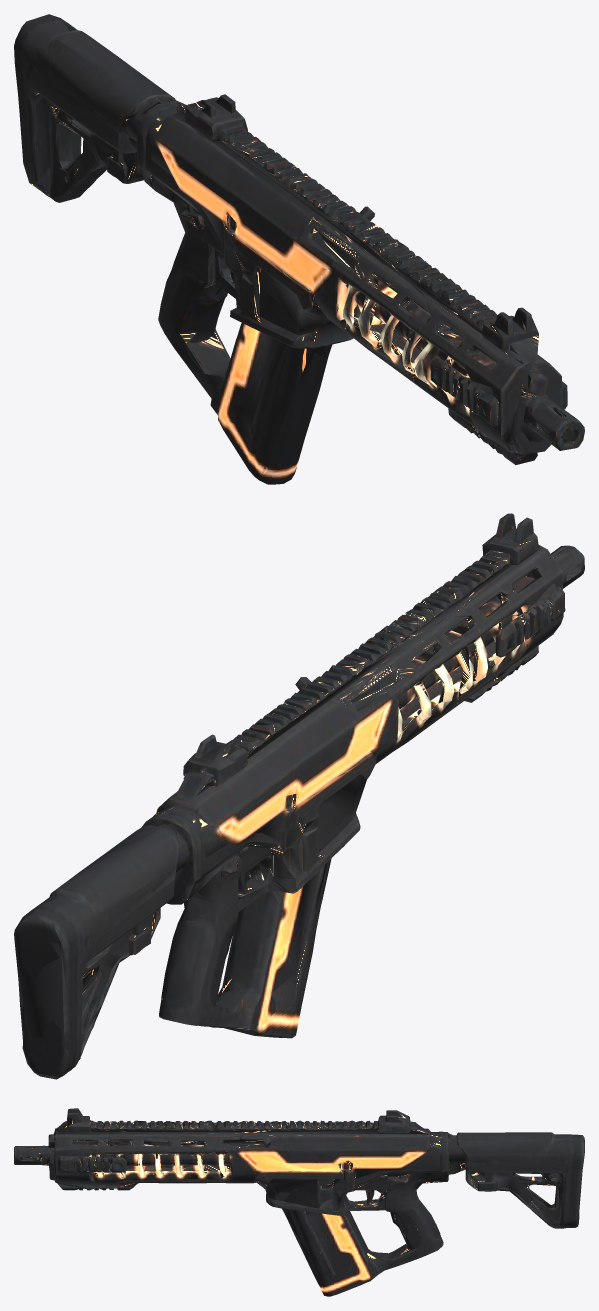
File: plasma_rifle_orange.glb
The picture shows the model from 3 angles, top to bottom: view 1: azimuth 30°, elevation 25°; view 2: azimuth 150°, elevation 25°; view 3: azimuth 270°, elevation 25°; orthographic projection. The views are drawn at different scales.
Parts seen in each view (by area): view 1: model, mesh_lod; view 2: model, mesh_lod; view 3: model, mesh_lod.
Boxes of the visible parts, bbox=[...] form: model: bbox=[14, 14, 584, 484]; mesh_lod: bbox=[14, 14, 578, 483]; model: bbox=[14, 513, 584, 1079]; mesh_lod: bbox=[14, 521, 584, 1078]; model: bbox=[14, 1108, 584, 1296]; mesh_lod: bbox=[20, 1110, 583, 1295].
Size of the model in its own units: 0.0718 by 0.3018 by 0.85.
1 material, 1 textured.
